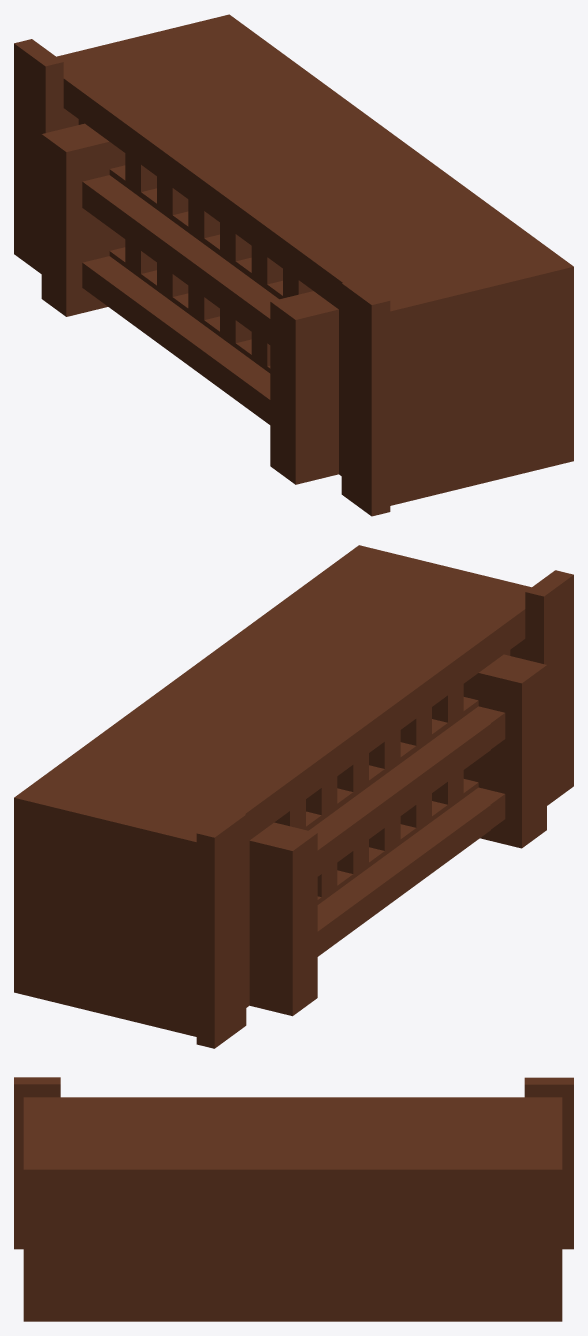
The model's file is bulding4.fbx.
3 renders of one model, top to bottom at view 1: azimuth 30°, elevation 25°; view 2: azimuth 150°, elevation 25°; view 3: azimuth 270°, elevation 25°, orthographic. The views are drawn at different scales.
Parts seen in each view (by area): view 1: Cube.007; view 2: Cube.007; view 3: Cube.007.
Part boxes in pixels (<box>): Cube.007: <box>14,14,573,516</box>; Cube.007: <box>14,545,573,1048</box>; Cube.007: <box>14,1077,573,1321</box>.
Bounding box in the file's own units: 9352 × 3043 × 3512.
